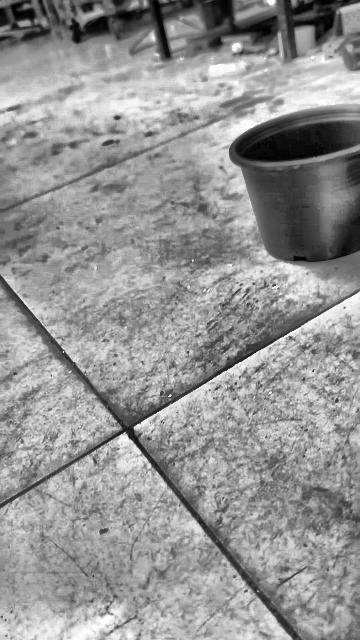pot: (230, 106, 360, 261)
